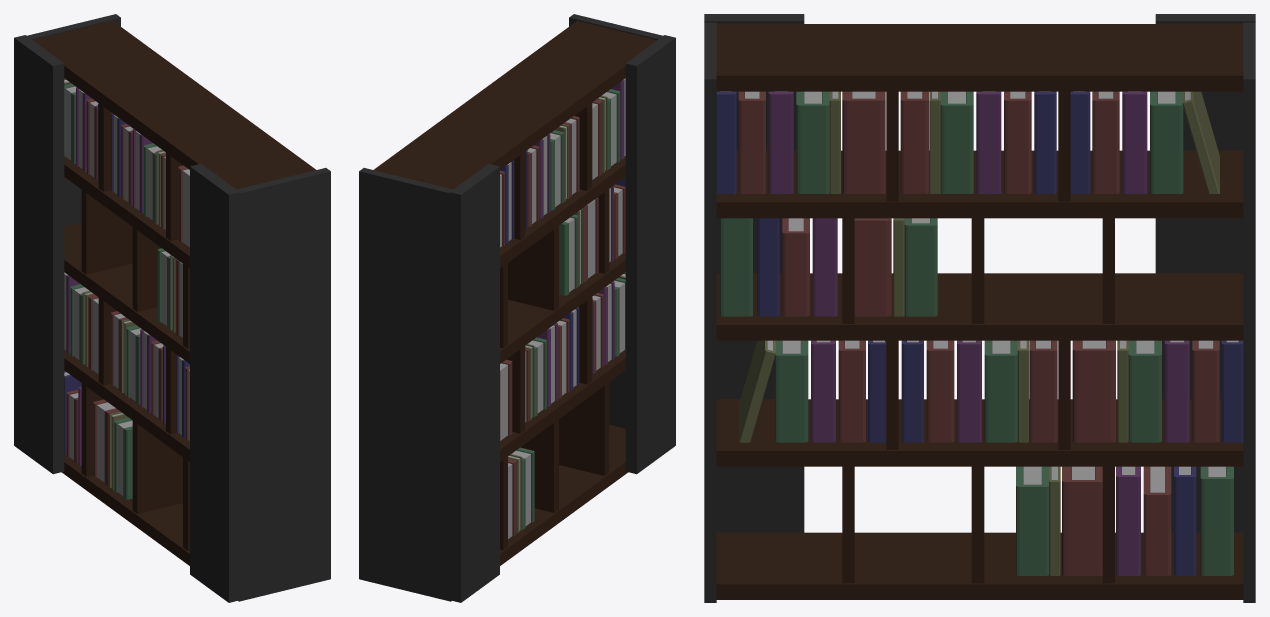
File: Boekenkast.fbx
The picture shows the model from 3 angles, left to right: view 1: azimuth 30°, elevation 25°; view 2: azimuth 150°, elevation 25°; view 3: azimuth 270°, elevation 25°; orthographic projection. The views are drawn at different scales.
Parts seen in each view (by area): view 1: Cube.012, Cube.013, Cube.014, Cube.010, Cube.009, Cube.016, Cube.006, Cube.020, Cube.008, Cube.007, Cube.019, Cube.067 (+33 smaller); view 2: Cube.011, Cube.014, Cube.013, Cube.010, Cube.006, Cube.017, Cube.009, Cube.019, Cube.007, Cube.008, Cube.016, Cube.012 (+32 smaller); view 3: Cube.010, Cube.009, Cube.006, Cube.008, Cube.007, Cube.014, Cube.013, Cube.011, Cube.012, Cube.031, Cube.052, Cube.066 (+55 smaller).
Part boxes in pixels (box(x1,y1,x2,y2)): Cube.012: box(237, 168, 330, 601); Cube.013: box(14, 35, 64, 474); Cube.014: box(190, 164, 240, 602); Cube.010: box(33, 20, 315, 189); Cube.009: box(64, 222, 189, 363); Cube.016: box(132, 420, 182, 513); Cube.006: box(61, 454, 189, 565); Cube.020: box(81, 190, 132, 274); Cube.008: box(64, 156, 189, 268); Cube.007: box(64, 349, 189, 461); Cube.019: box(132, 227, 161, 311); Cube.067: box(114, 417, 132, 499); Cube.011: box(359, 168, 452, 601); Cube.014: box(625, 35, 675, 474); Cube.013: box(449, 164, 499, 602); Cube.010: box(374, 20, 656, 189); Cube.006: box(500, 425, 628, 565); Cube.017: box(559, 382, 609, 475); Cube.009: box(500, 253, 625, 363); Cube.019: box(508, 226, 558, 310); Cube.007: box(500, 350, 625, 461); Cube.008: box(500, 156, 625, 268); Cube.016: box(520, 419, 558, 512); Cube.012: box(569, 14, 662, 428); Cube.010: box(716, 24, 1243, 91); Cube.009: box(716, 273, 1243, 340); Cube.006: box(716, 532, 1243, 599); Cube.008: box(716, 150, 1243, 218); Cube.007: box(716, 399, 1243, 466); Cube.014: box(704, 14, 804, 532); Cube.013: box(1155, 14, 1255, 532); Cube.011: box(1243, 22, 1255, 602); Cube.012: box(704, 22, 716, 602); Cube.031: box(842, 91, 885, 193); Cube.052: box(1072, 340, 1115, 442); Cube.066: box(1062, 466, 1102, 575).
Bounding box in the file's own units: 90.58 × 349 × 330.
